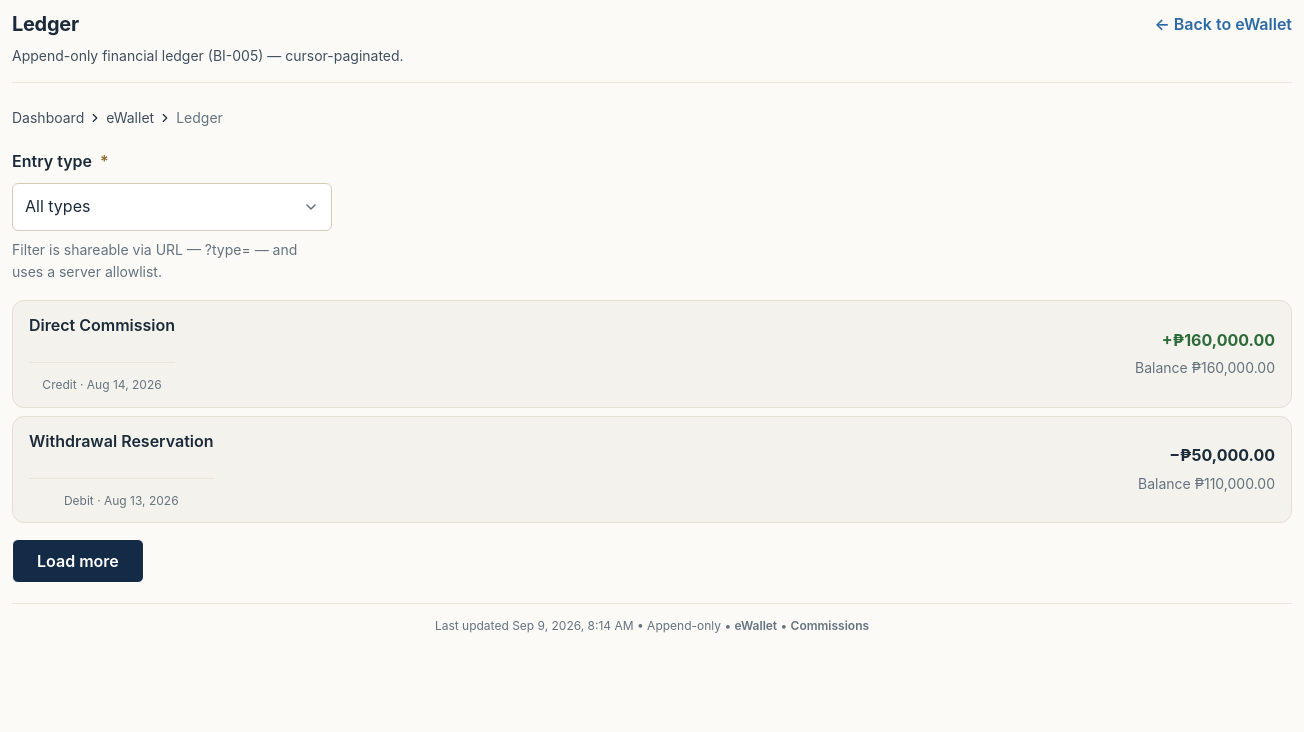
member LedgerPage › loads the next cursor page on demand (API-SPECIFICATION §4)
The width and height of the screenshot is (1304, 732).
Click the button "Load more": (78, 561) [12, 539, 144, 583]
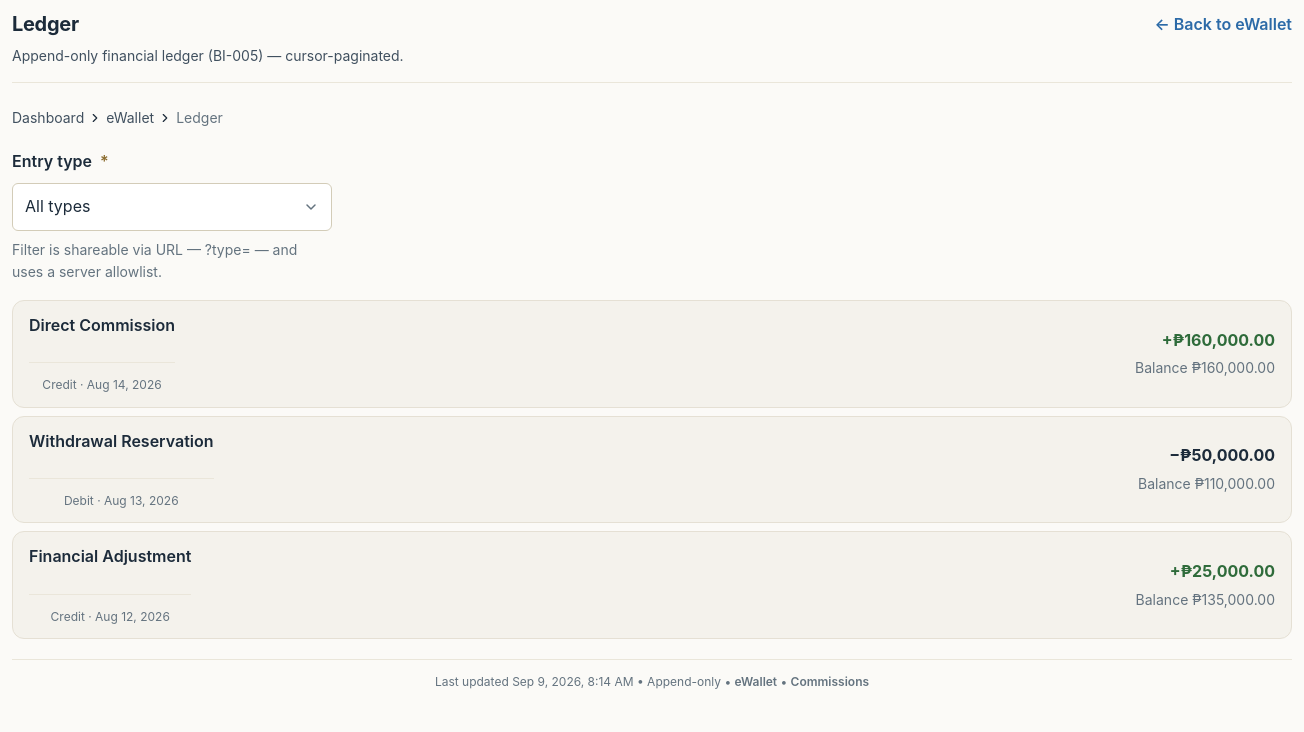
expect the text "Balance ₱135,000.00" is shown: met, box [1136, 589, 1275, 611]
expect the button "Load more" is gone: met
